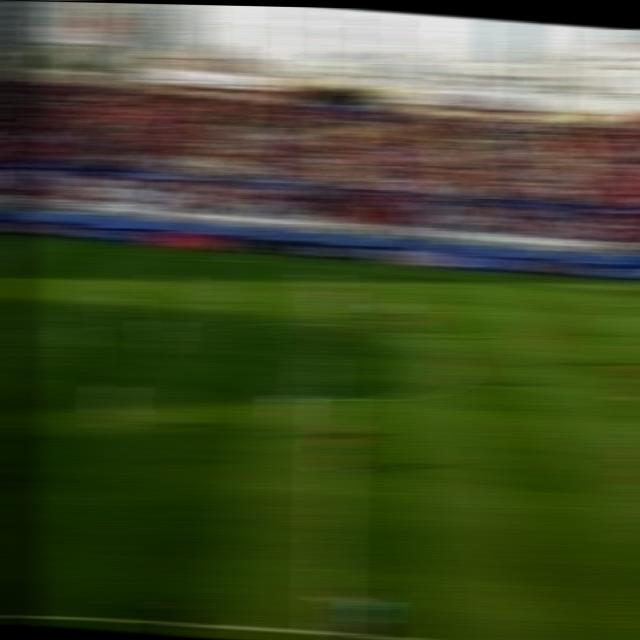halfcircle_bottom: (315, 385, 352, 408)
halfcircle_top: (316, 316, 353, 333)
midline_bottom_intersection: (306, 619, 349, 640)
midline_top_intersection: (323, 257, 355, 274)
